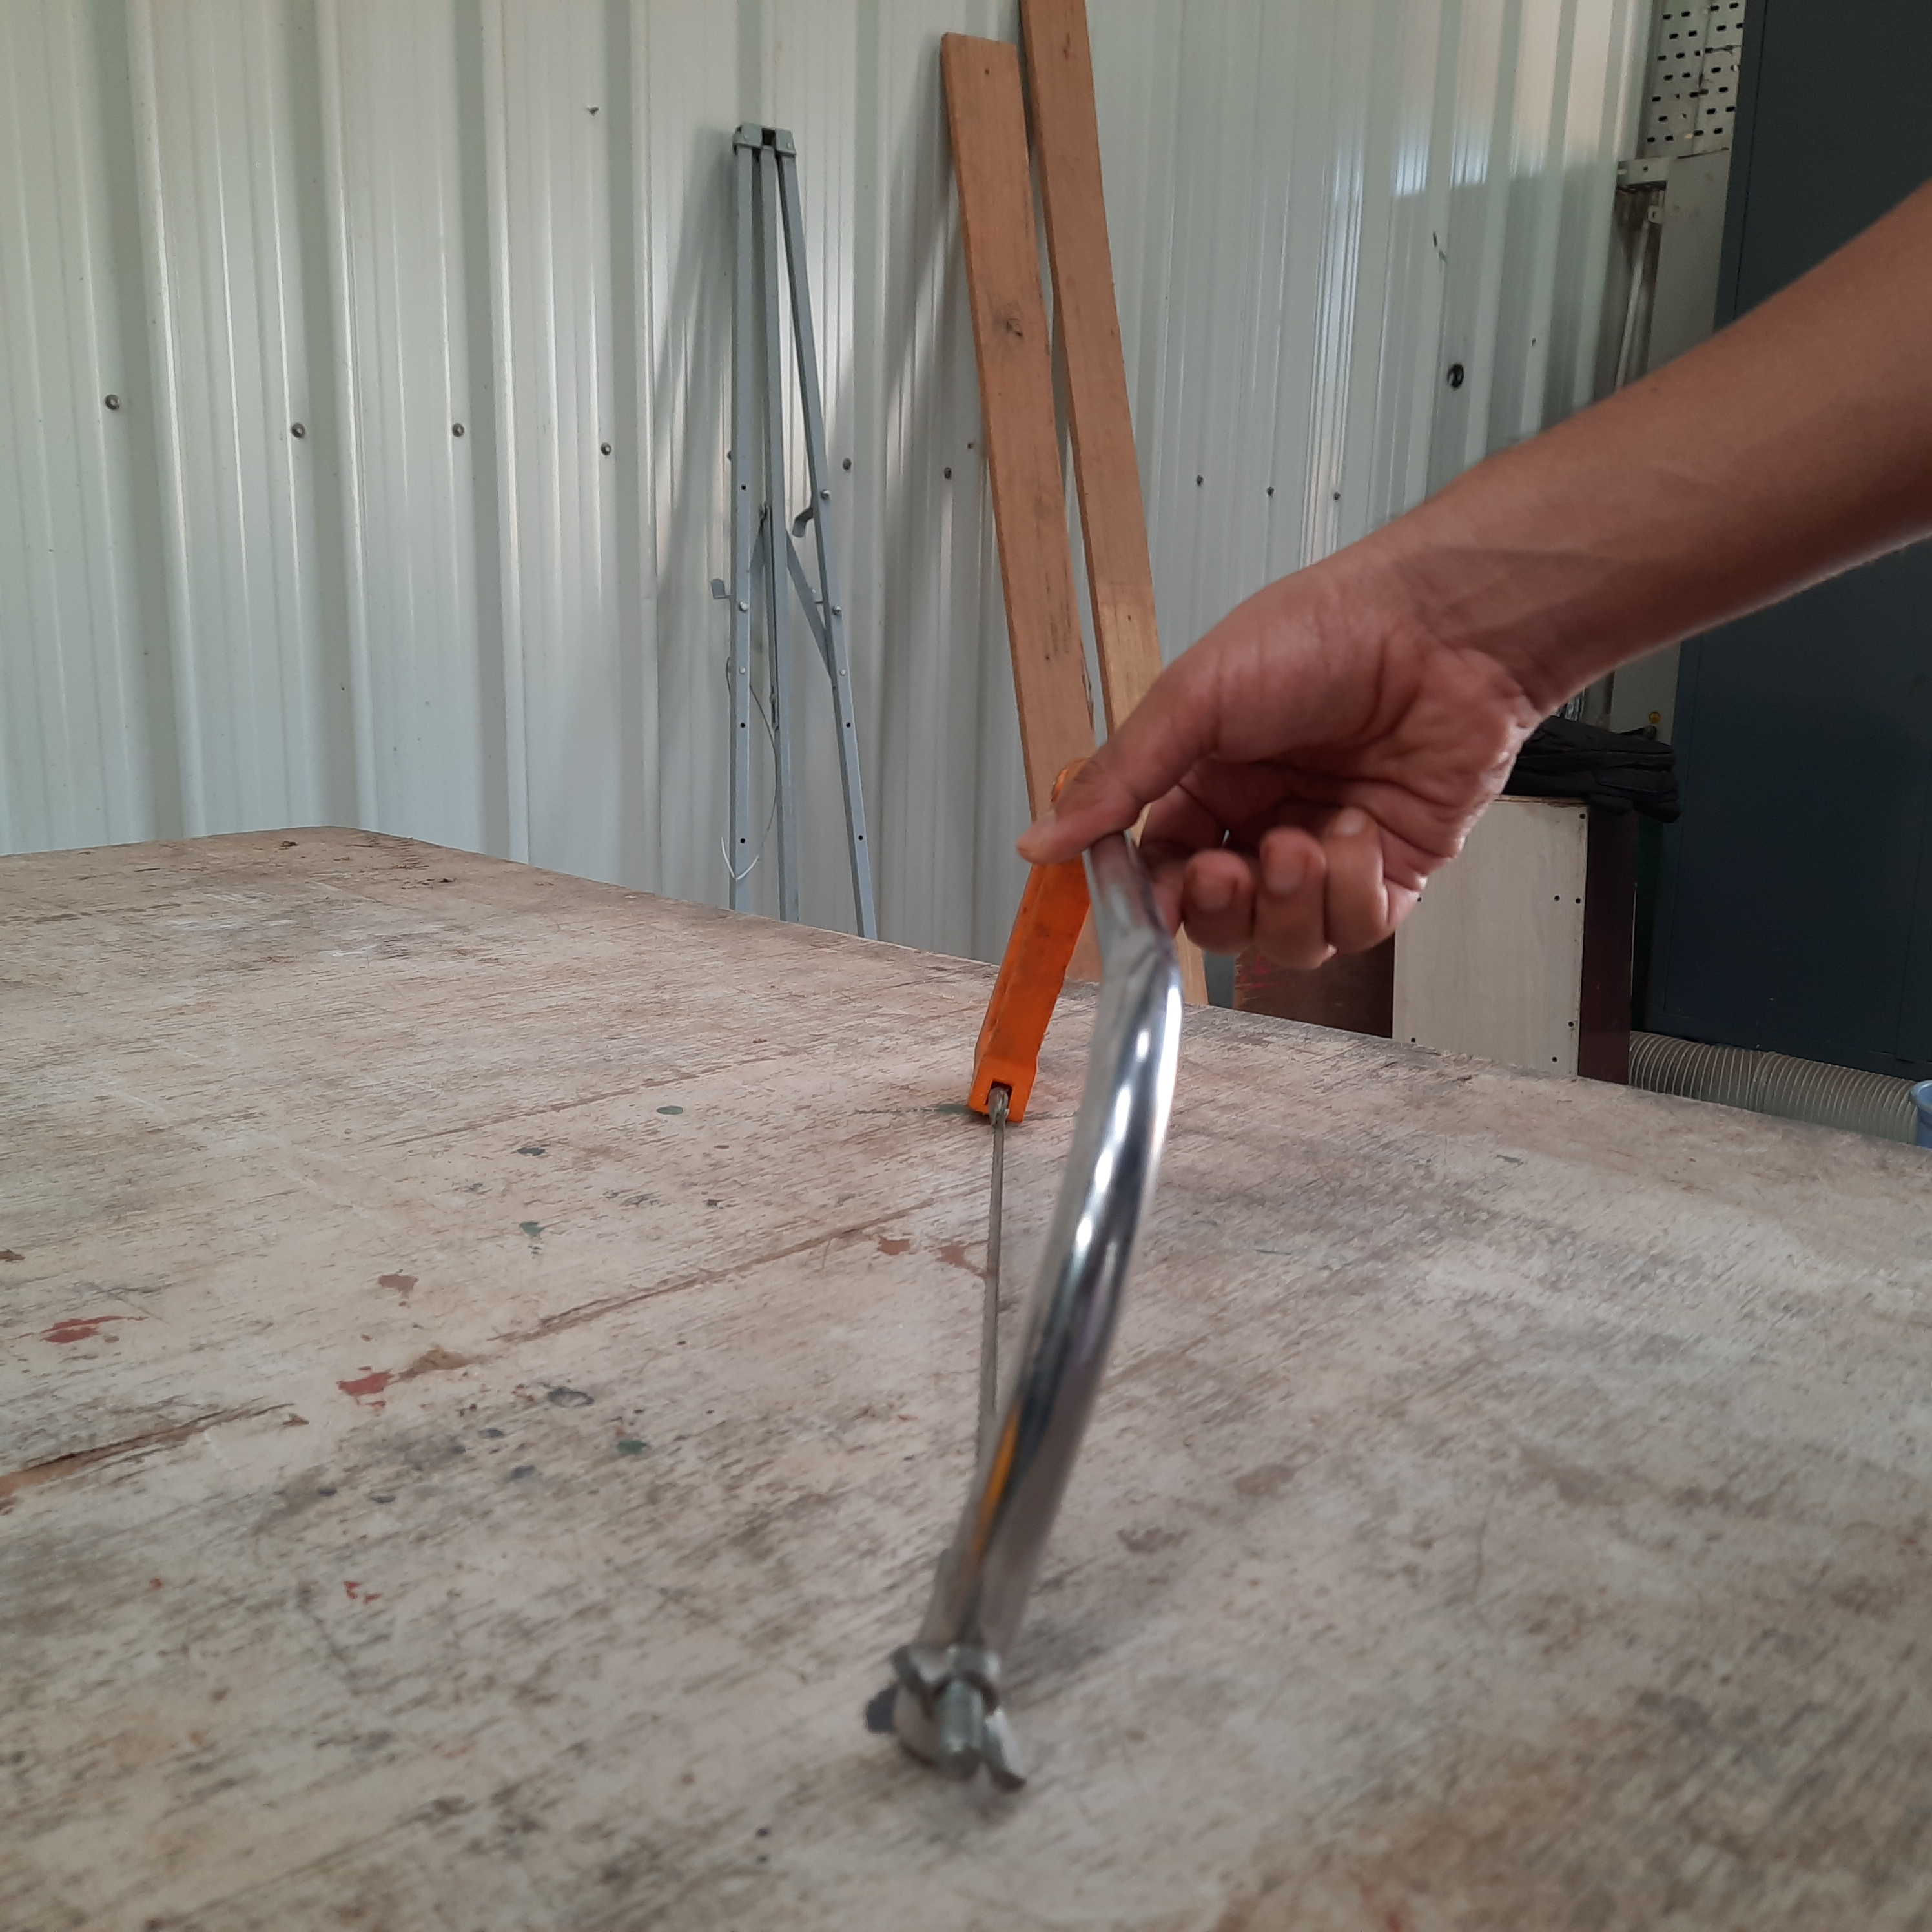Hexaframe: (837, 740, 1244, 1808)
